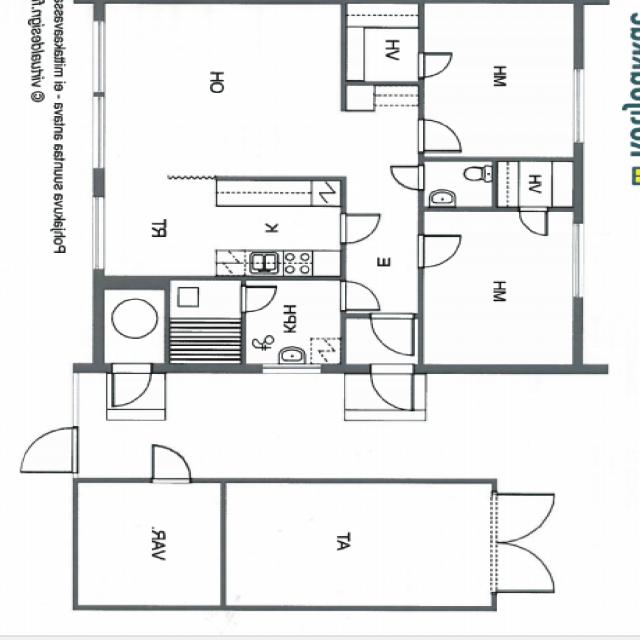door: (492, 494, 553, 543), (492, 543, 553, 592), (22, 427, 78, 472), (371, 364, 413, 408), (371, 314, 414, 355), (113, 363, 151, 406), (152, 445, 190, 483), (418, 120, 459, 151), (418, 236, 459, 266), (341, 281, 379, 310), (342, 215, 378, 242), (242, 286, 276, 311), (520, 207, 547, 235), (391, 166, 423, 189), (418, 54, 450, 76)
